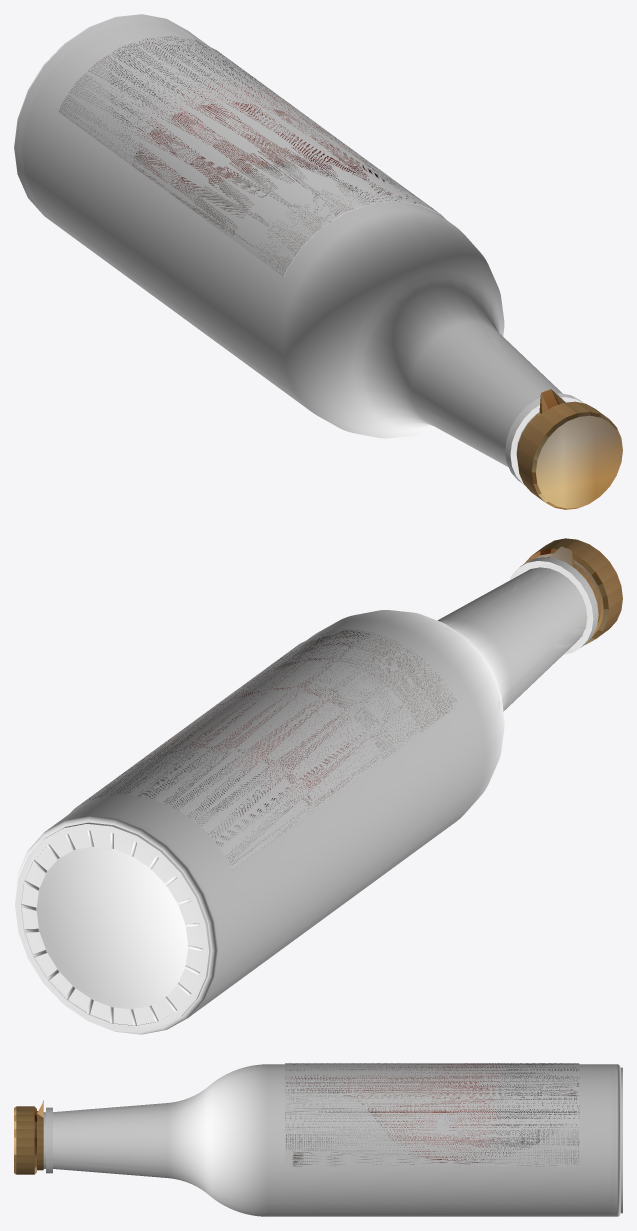
The model's file is model_scale.obj.
3 renders of one model, top to bottom at view 1: azimuth 30°, elevation 25°; view 2: azimuth 150°, elevation 25°; view 3: azimuth 270°, elevation 25°, orthographic. The views are drawn at different scales.
Parts seen in each view (by area): view 1: mesh4_mesh4-geometry, mesh2_mesh2-geometry; view 2: mesh4_mesh4-geometry, mesh2_mesh2-geometry, mesh1_mesh1-geometry; view 3: mesh4_mesh4-geometry, mesh2_mesh2-geometry.
Boxes of the visible parts, box(x1,y1,x2,y2) form: mesh4_mesh4-geometry: box(14, 14, 622, 509); mesh2_mesh2-geometry: box(58, 35, 447, 276); mesh4_mesh4-geometry: box(14, 538, 622, 1034); mesh2_mesh2-geometry: box(69, 629, 458, 870); mesh1_mesh1-geometry: box(21, 830, 202, 1025); mesh4_mesh4-geometry: box(14, 1064, 622, 1216); mesh2_mesh2-geometry: box(285, 1063, 579, 1166).
Size of the model in its own units: 0.04 by 0.04 by 0.1589.
